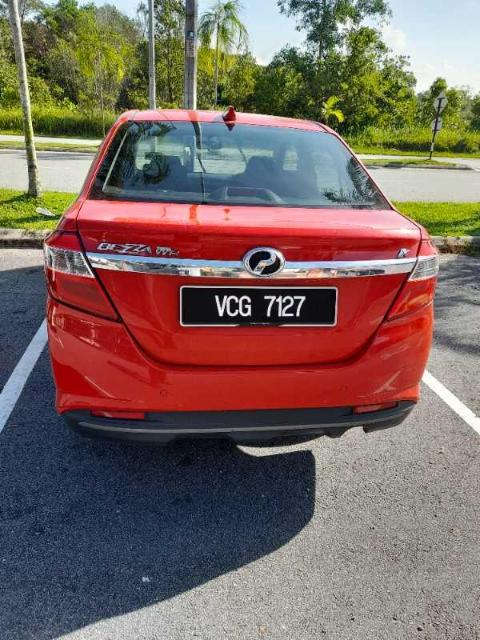License_Plate: (179, 286, 339, 329)
car: (43, 106, 441, 450)
